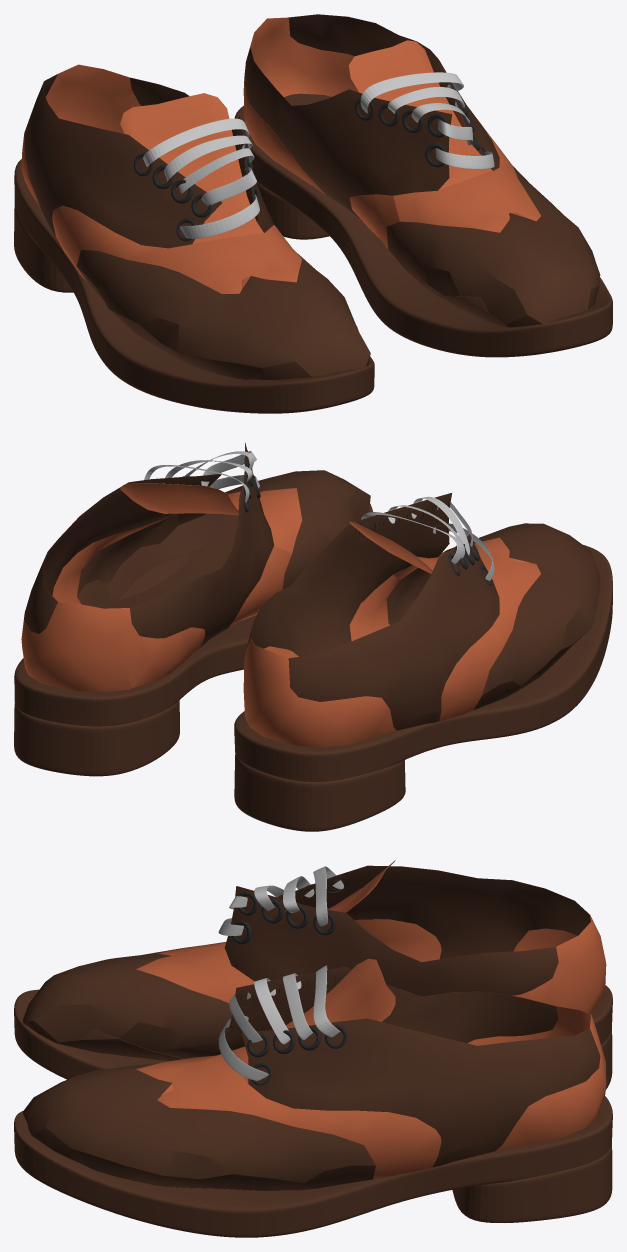
3 views of the same model, one above another, from view 1: azimuth 30°, elevation 25°; view 2: azimuth 150°, elevation 25°; view 3: azimuth 270°, elevation 25° (orthographic).
Parts seen in each view (by area): view 1: zapato2.001, zapato2, Plane, Plane.011, Plane.007, Plane.004, Plane.006, Plane.008, Plane.003, Plane.010, Plane.009, Plane.005; view 2: zapato2.001, zapato2, Plane.011, Plane, Plane.010; view 3: zapato2, zapato2.001, Plane, Plane.011, Plane.001, Plane.003, Plane.004, Plane.007, Plane.005, Plane.008, Plane.002.
Boxes of the visible parts, x1,y1,x2,y2 form: zapato2.001: (21, 64, 370, 379); zapato2: (243, 14, 600, 327); Plane: (234, 93, 612, 357); Plane.011: (14, 159, 374, 413); Plane.007: (143, 118, 249, 166); Plane.004: (360, 72, 463, 113); Plane.006: (180, 194, 259, 238); Plane.008: (164, 135, 252, 181); Plane.003: (387, 87, 464, 113); Plane.010: (179, 148, 254, 193); Plane.009: (201, 167, 256, 206); Plane.005: (435, 148, 494, 169); zapato2.001: (243, 493, 600, 747); zapato2: (21, 442, 370, 691); Plane.011: (234, 545, 612, 831); Plane: (14, 503, 373, 776); Plane.010: (411, 496, 469, 555); zapato2: (23, 958, 606, 1190); zapato2.001: (23, 860, 606, 1060); Plane: (14, 1096, 612, 1237); Plane.011: (14, 985, 612, 1089); Plane.001: (254, 978, 290, 1044); Plane.003: (283, 973, 312, 1040); Plane.004: (313, 965, 340, 1037); Plane.007: (313, 866, 343, 926); Plane.005: (218, 1016, 268, 1080); Plane.008: (283, 876, 314, 913); Plane.002: (229, 992, 262, 1042).
Size of the model in its own units: 390 by 176 by 447.
